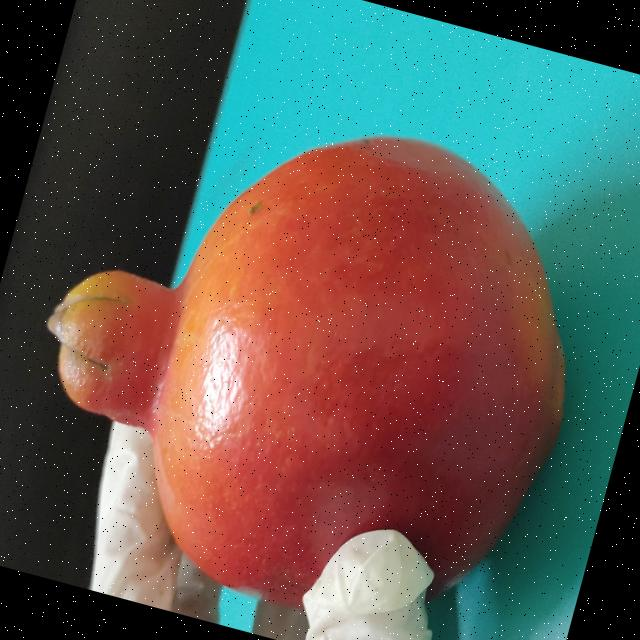Good_Pomegranate 50-60-days: (0, 53, 627, 640)
